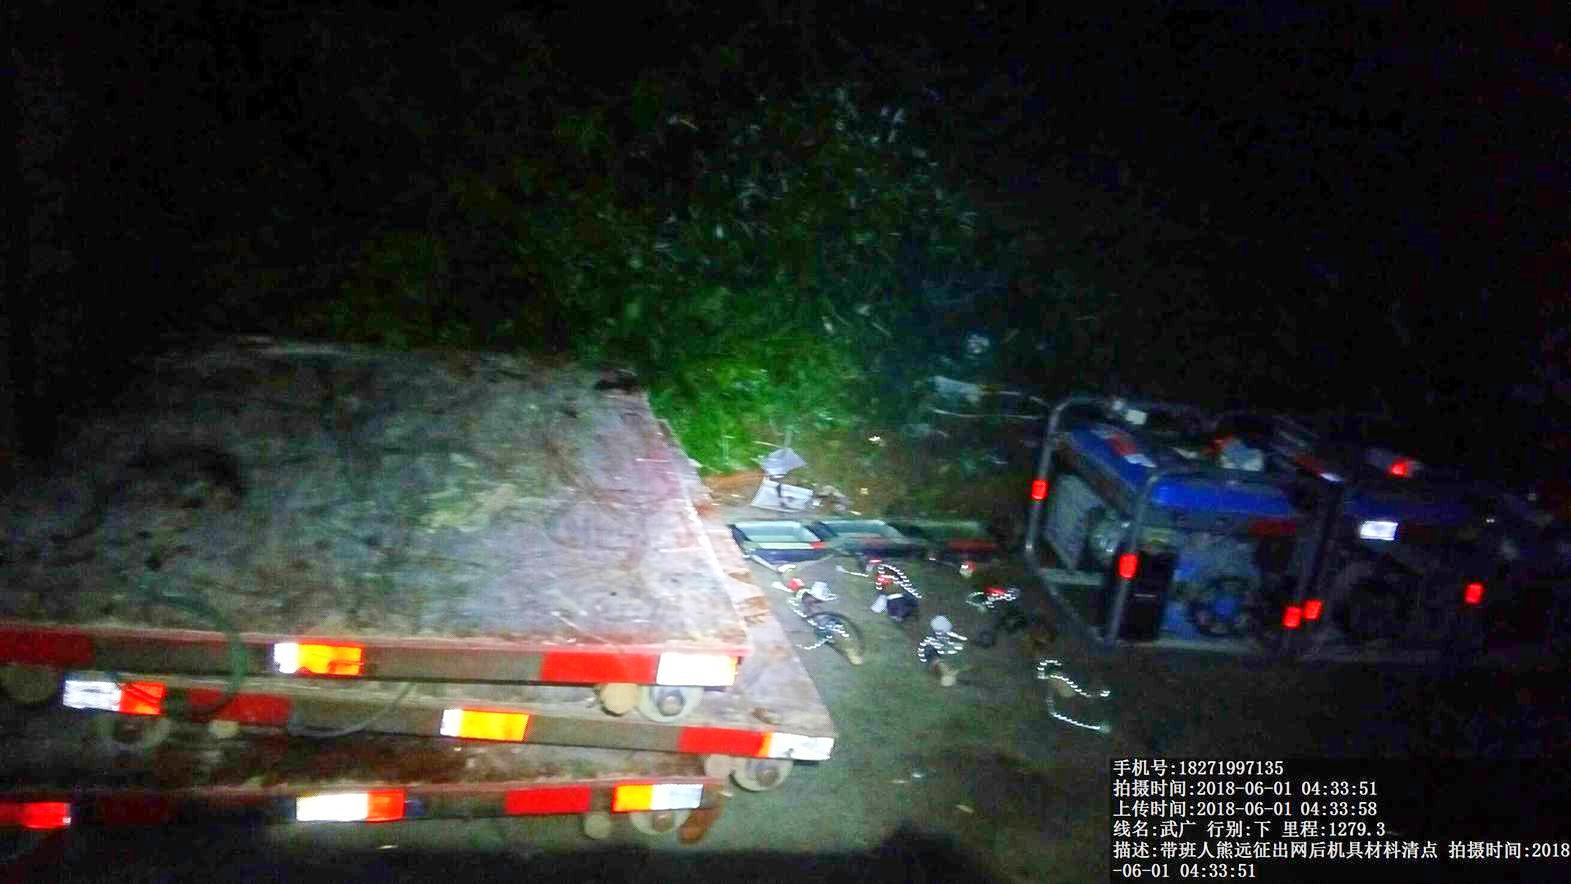DJ: (1044, 372, 1328, 679)
